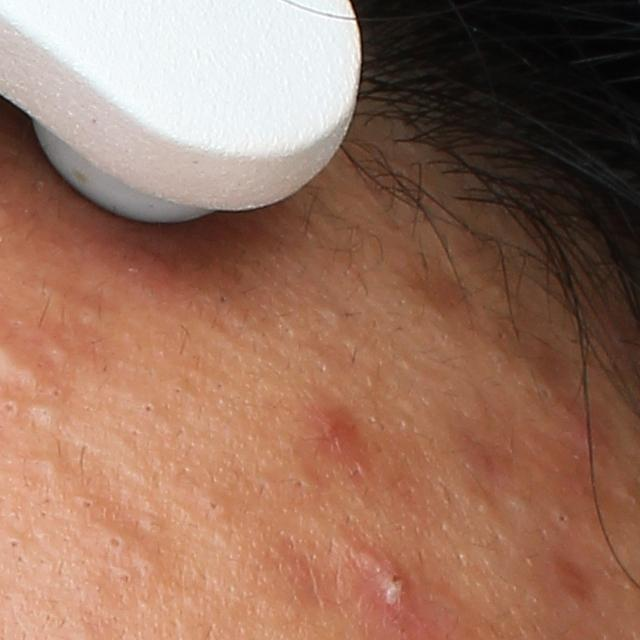comedo: (25, 448, 67, 481), (202, 497, 227, 520), (104, 528, 125, 554), (140, 401, 159, 417), (78, 497, 97, 512), (47, 385, 66, 400)
